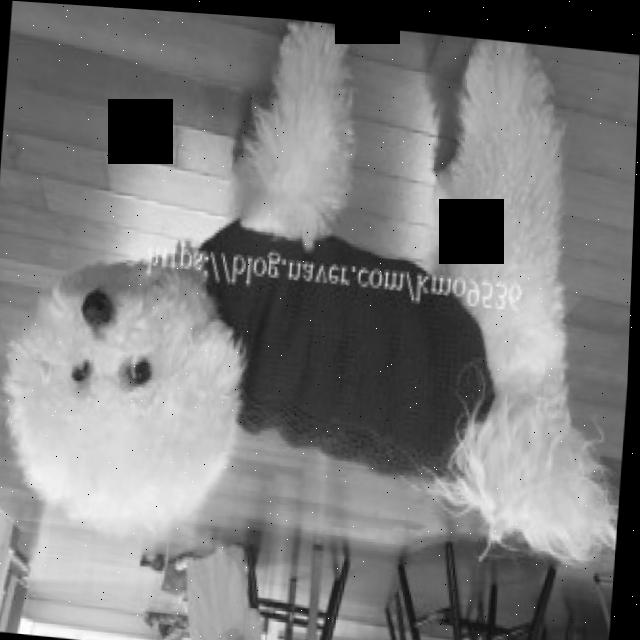cloth: (205, 216, 491, 474)
